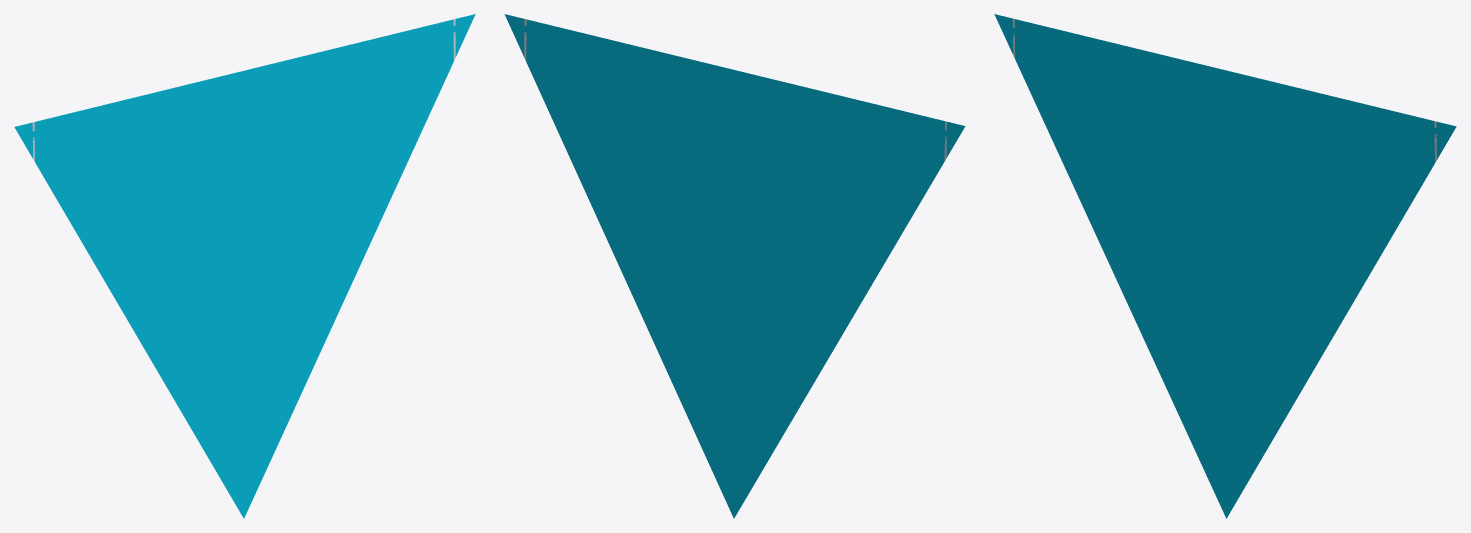
The model's file is Halogram Rays.fbx.
3 renders of one model, left to right at view 1: azimuth 30°, elevation 25°; view 2: azimuth 150°, elevation 25°; view 3: azimuth 330°, elevation 25°, orthographic.
Visible parts, largest first — view 1: Halogram Rays; view 2: Halogram Rays; view 3: Halogram Rays.
Part boxes in pixels (bbox=[...]): Halogram Rays: bbox=[14, 14, 475, 518]; Halogram Rays: bbox=[504, 14, 965, 518]; Halogram Rays: bbox=[994, 14, 1456, 518].
Bounding box in the file's own units: 1.08 × 1 × 0.00481.
